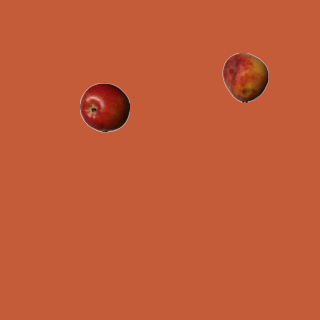Apple Braeburn: (79, 82, 129, 132)
Peach: (220, 52, 270, 102)
